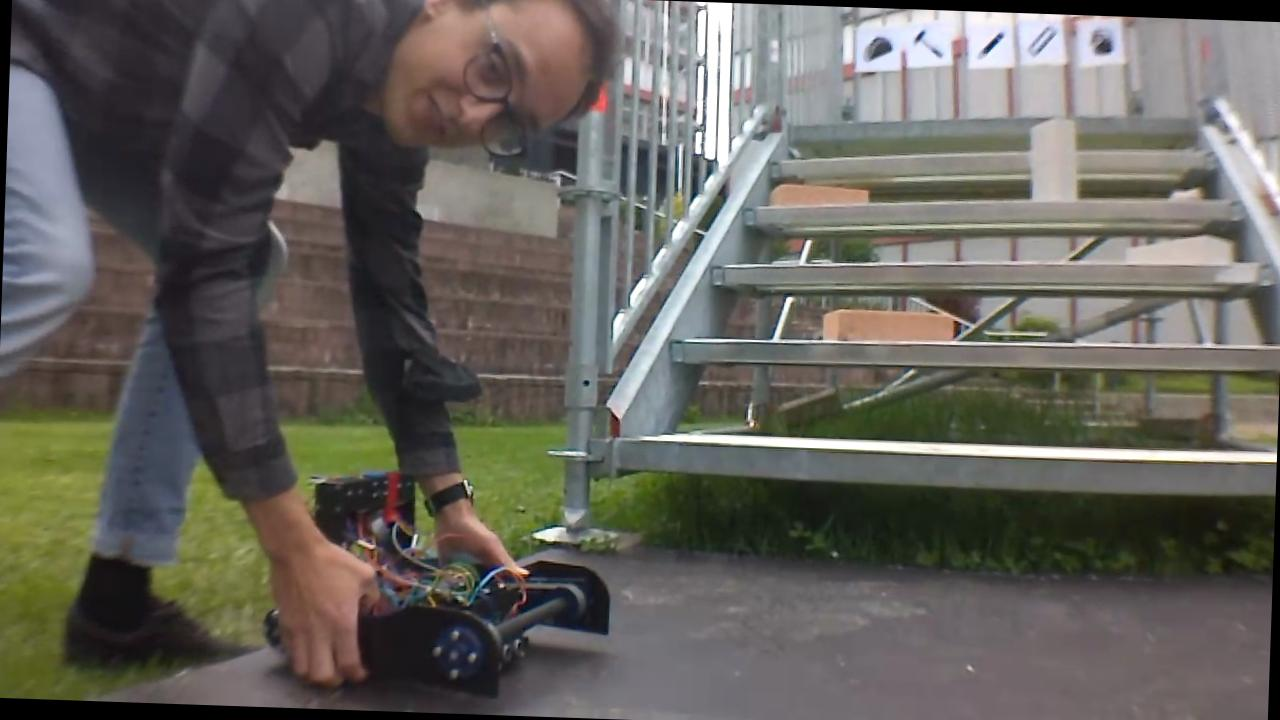brick: (822, 307, 952, 342), (1028, 117, 1076, 201), (1125, 232, 1232, 263), (771, 183, 868, 206)
bucket: (1083, 26, 1119, 58)
edge: (616, 436, 1274, 497), (713, 243, 1278, 303), (668, 325, 1280, 378), (744, 183, 1248, 239), (768, 136, 1223, 184), (791, 105, 1191, 147)
hammer: (907, 27, 945, 64)
pencil: (971, 26, 1007, 65)
ruler: (1022, 21, 1059, 59)
steps: (605, 91, 1280, 508)
taco: (860, 32, 895, 64)
